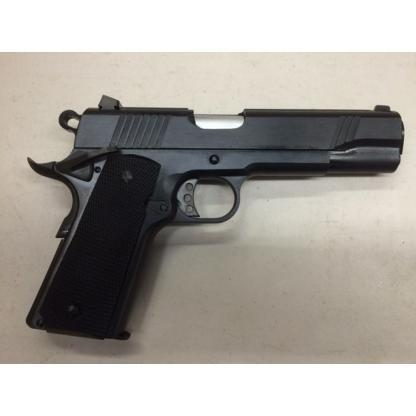Pistol: (21, 90, 407, 341)
